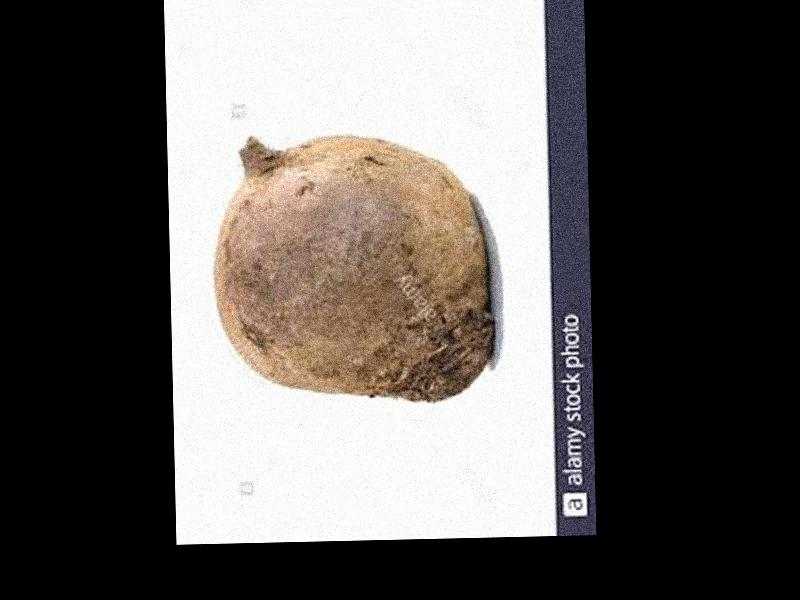Beet: (211, 130, 495, 405)
